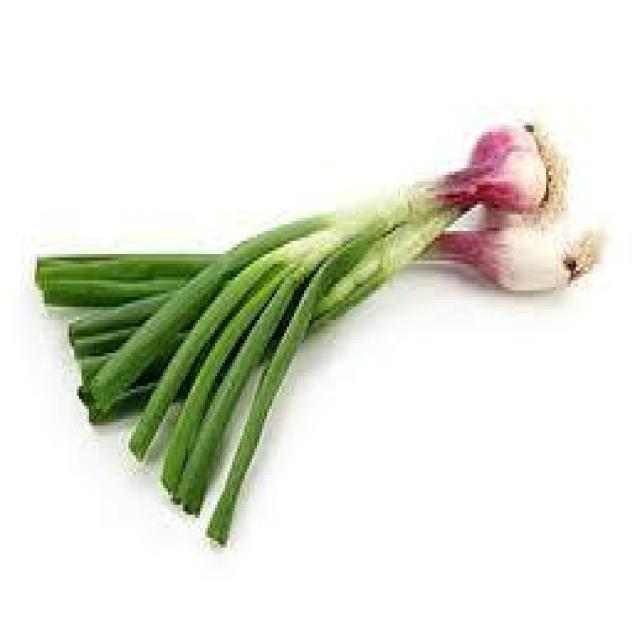Onion: (36, 123, 599, 542)
